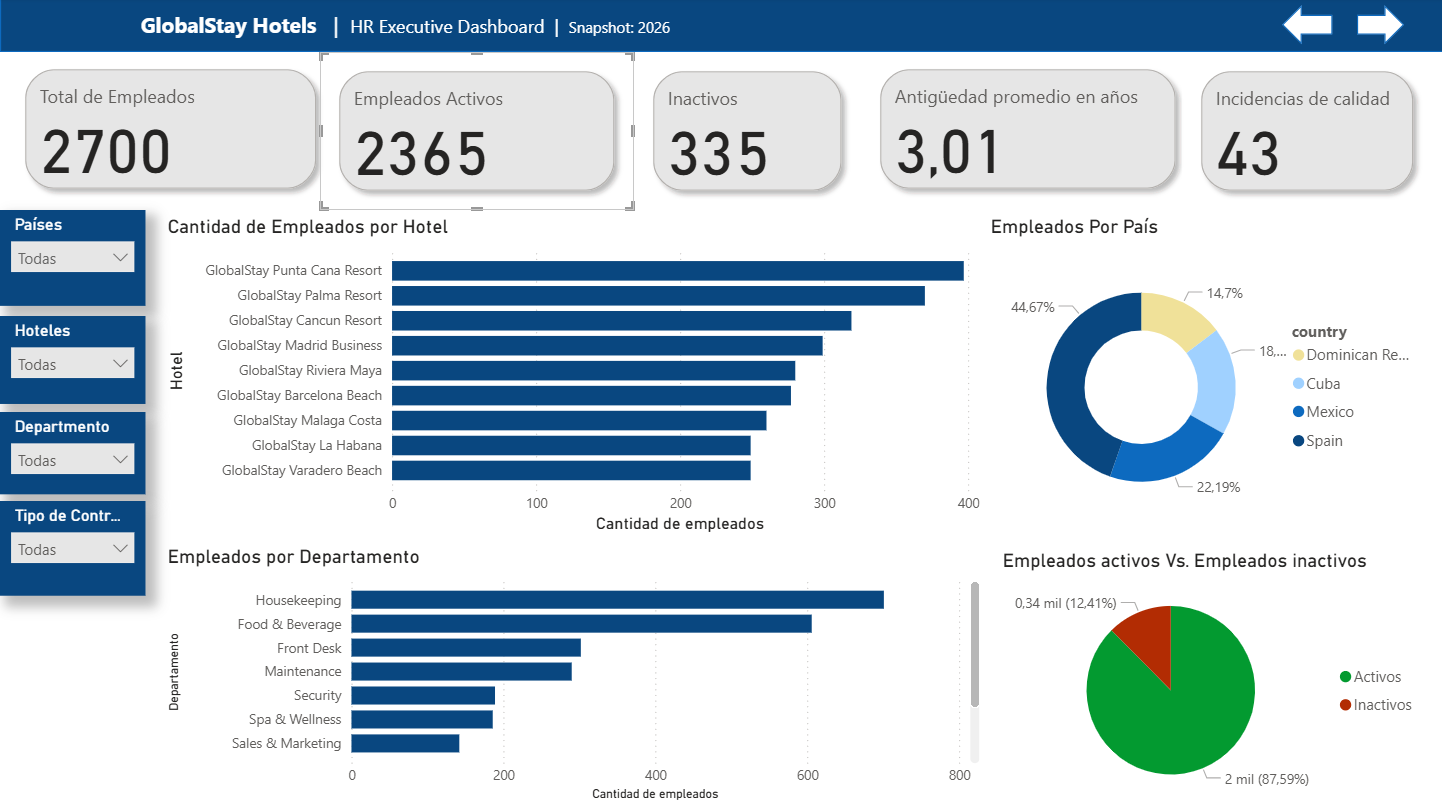

This screenshot's page, from the dashboard's own definition file:
{"tool":"powerbi","page":{"name":"HR Executive Dashboard","canvas":[1280,720],"ordinal":1},"visuals":[{"type":"cardVisual","fields":{"Data":["Medidas.Total Employees"]},"box":[5.3,46.1,292.6,141],"z":0},{"type":"cardVisual","fields":{"Data":["Medidas.Inactive Employees"]},"box":[562.2,47.9,201.3,140.1],"z":1000},{"type":"cardVisual","fields":{"Data":["Medidas.Average Tenure Years"]},"box":[763.4,46.1,296.2,141],"z":2000},{"type":"cardVisual","fields":{"Data":["Medidas.Quality Issues"]},"box":[1048.1,47.9,222.6,140.1],"z":3000},{"type":"cardVisual","fields":{"Data":["Medidas.Active Employees"]},"box":[283.7,47.9,278.4,140.1],"z":4000},{"type":"shape","box":[0,0,1280.4,47.9],"z":5000},{"type":"textbox","box":[119.7,6.2,983.3,34.6],"z":6000},{"type":"clusteredBarChart","title":"Cantidad de Empleados por Hotel","fields":{"Category":["vw_employee_snapshot.hotel_name"],"Y":["CountNonNull(vw_employee_snapshot.employee_id)"]},"box":[143.6,192.4,729.8,286.4],"z":7000},{"type":"donutChart","title":"Empleados Por País","fields":{"Category":["vw_employee_snapshot.country"],"Y":["CountNonNull(vw_employee_snapshot.employee_id)"]},"box":[873.4,192.4,391.9,286.4],"z":8000},{"type":"clusteredBarChart","title":"Empleados por Departamento","fields":{"Y":["CountNonNull(vw_employee_snapshot.employee_id)"],"Category":["vw_employee_snapshot.department_name"]},"box":[143.6,485,729.8,231.4],"z":9000},{"type":"pieChart","title":"Empleados activos Vs. Empleados inactivos","fields":{"Y":["Medidas.Active Employees","Medidas.Inactive Employees"]},"box":[884,488.6,382.2,231.4],"z":10000},{"type":"slicer","fields":{"Values":["vw_employee_snapshot.country"]},"box":[0,188,129.5,85.1],"z":11000},{"type":"slicer","fields":{"Values":["vw_employee_snapshot.hotel_name"]},"box":[0,282,129.5,78],"z":12000},{"type":"slicer","fields":{"Values":["vw_employee_snapshot.department_name"]},"box":[0,367.1,129.5,72.7],"z":13000},{"type":"slicer","fields":{"Values":["vw_employee_snapshot.contract_type"]},"box":[0,446,129.5,84.2],"z":14000},{"type":"shape","box":[1203.2,5.8,41.8,35],"z":14001},{"type":"shape","box":[1137,5.8,44.7,35],"z":14002}]}

Visuals, with their boxes in screenshot pixels (x1, y1, x2, y2), scaled from the page's 1280x720 canvas onto the 1442x810 screenshot:
cardVisual - Medidas.Total Employees: region(6, 52, 336, 210)
cardVisual - Medidas.Inactive Employees: region(633, 54, 860, 212)
cardVisual - Medidas.Average Tenure Years: region(860, 52, 1194, 210)
cardVisual - Medidas.Quality Issues: region(1181, 54, 1432, 212)
cardVisual - Medidas.Active Employees: region(320, 54, 633, 212)
shape: region(0, 0, 1441, 54)
textbox: region(135, 7, 1243, 46)
"Cantidad de Empleados por Hotel" clusteredBarChart: region(162, 216, 984, 539)
"Empleados Por País" donutChart: region(984, 216, 1425, 539)
"Empleados por Departamento" clusteredBarChart: region(162, 546, 984, 806)
"Empleados activos Vs. Empleados inactivos" pieChart: region(996, 550, 1426, 809)
slicer - vw_employee_snapshot.country: region(0, 212, 146, 307)
slicer - vw_employee_snapshot.hotel_name: region(0, 317, 146, 405)
slicer - vw_employee_snapshot.department_name: region(0, 413, 146, 495)
slicer - vw_employee_snapshot.contract_type: region(0, 502, 146, 596)
shape: region(1355, 7, 1403, 46)
shape: region(1281, 7, 1331, 46)
